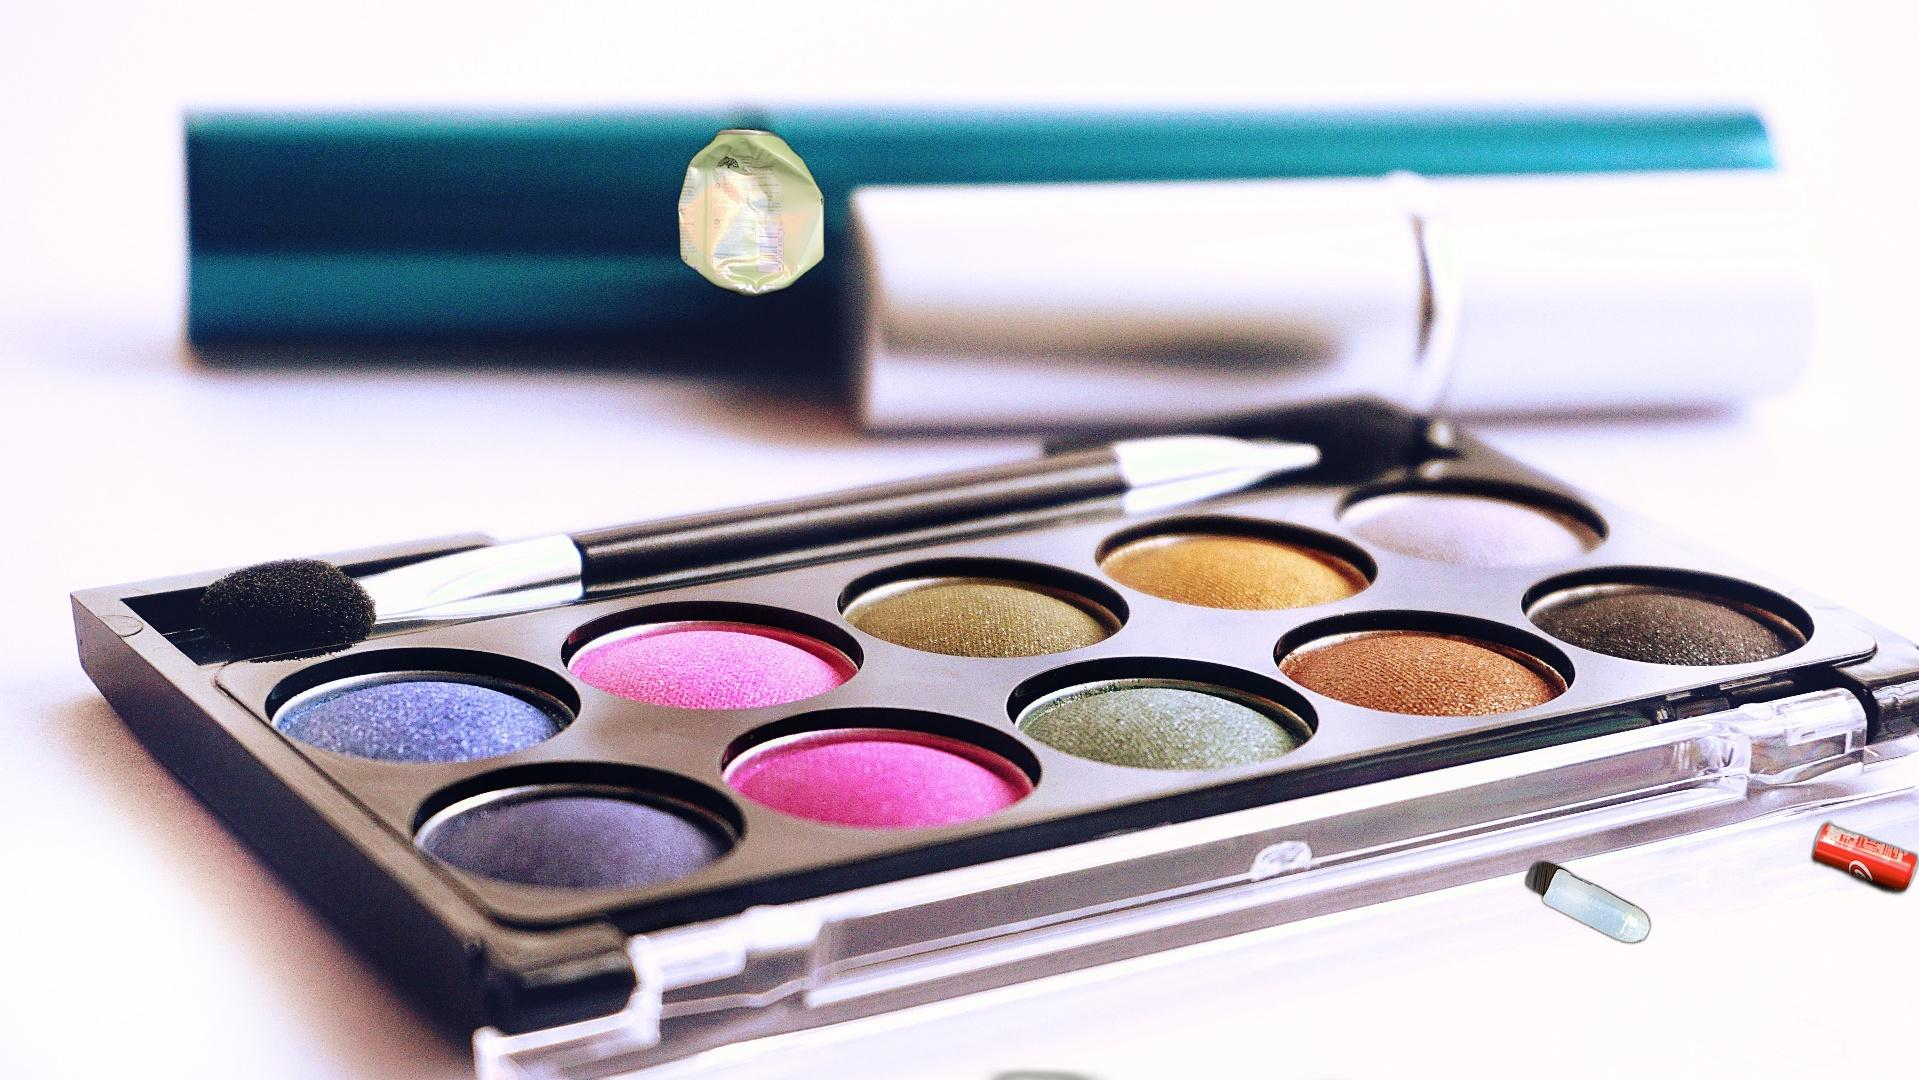metal-cans: (673, 123, 829, 303), (1807, 815, 1919, 899)
penholder: (629, 1055, 1800, 1080)
plastic-bottles: (1314, 855, 1655, 1080)
